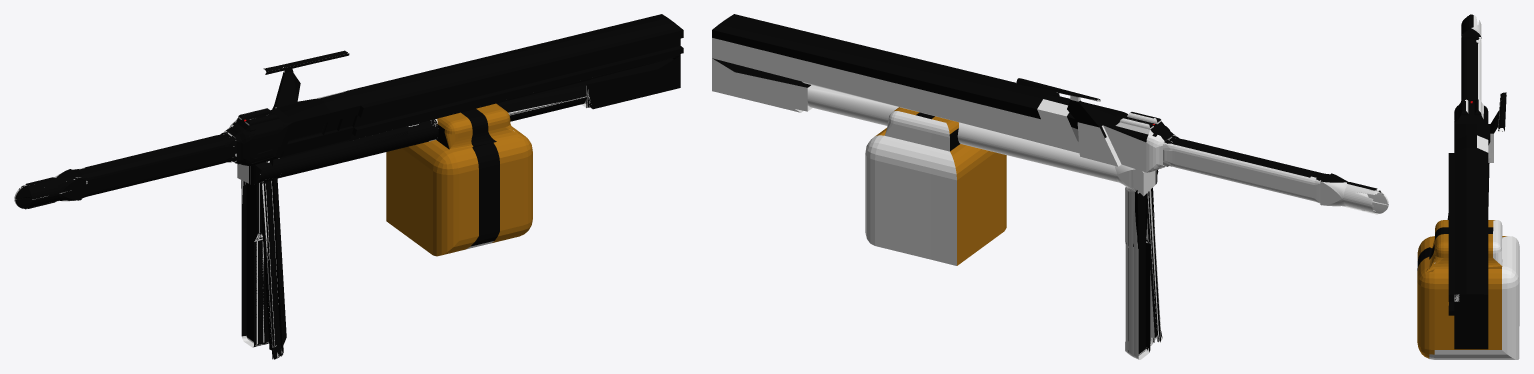
Rendered from BRON V3.fbx.
The picture shows the model from 3 angles, left to right: view 1: azimuth 30°, elevation 25°; view 2: azimuth 150°, elevation 25°; view 3: azimuth 270°, elevation 25°; orthographic projection. The views are drawn at different scales.
Parts seen in each view (by area): view 1: Cube; view 2: Cube; view 3: Cube.
Boxes of the visible parts, x1,y1,x2,y2 form: Cube: [14, 14, 683, 359]; Cube: [712, 14, 1388, 359]; Cube: [1417, 14, 1519, 359].
Size of the model in its own units: 455 by 172 by 67.51.
